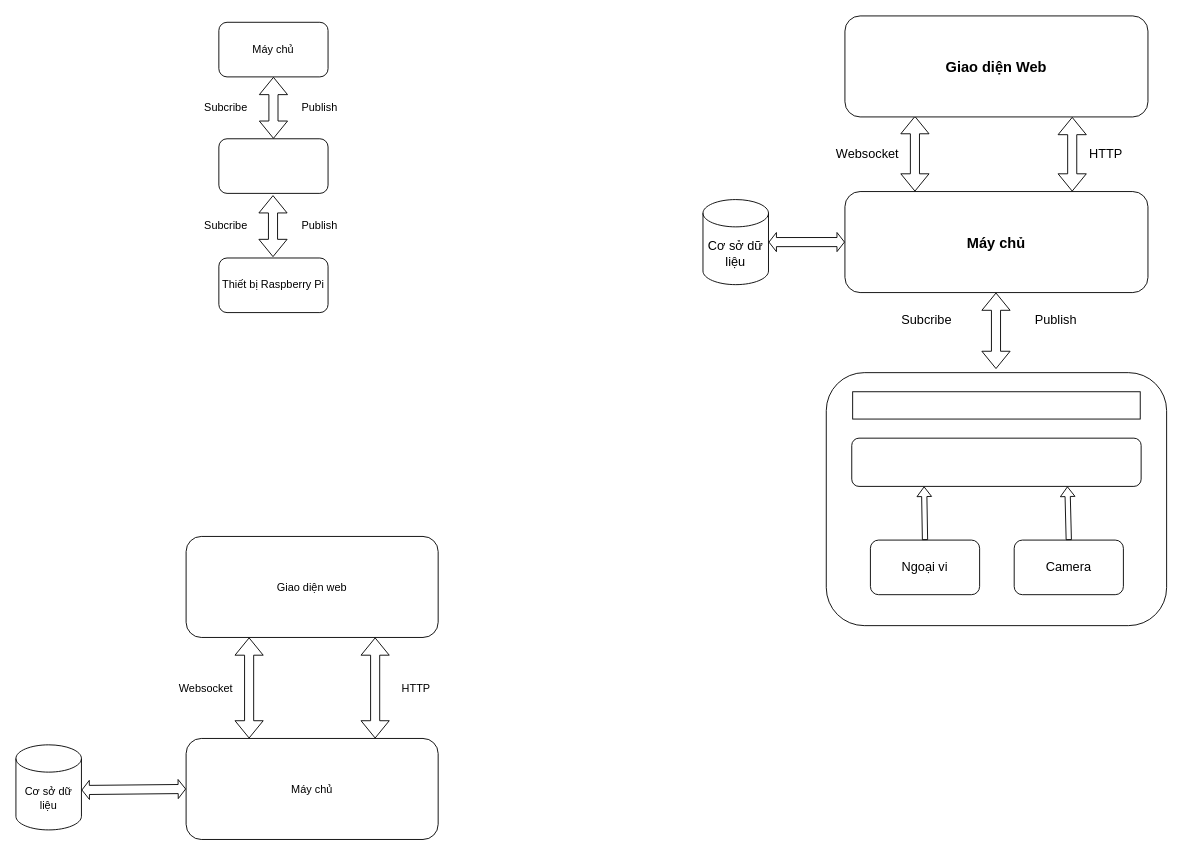
Some shapes in this 1183 by 855 pixel diagram are drawn without their labels. The centre of each missing label's shape, as x and y in pixels:
"MQTT Broker" belongs at (x=273, y=165).
"Raspberry Pi" belongs at (x=996, y=461).
"Thiết bị" belongs at (x=996, y=405).
